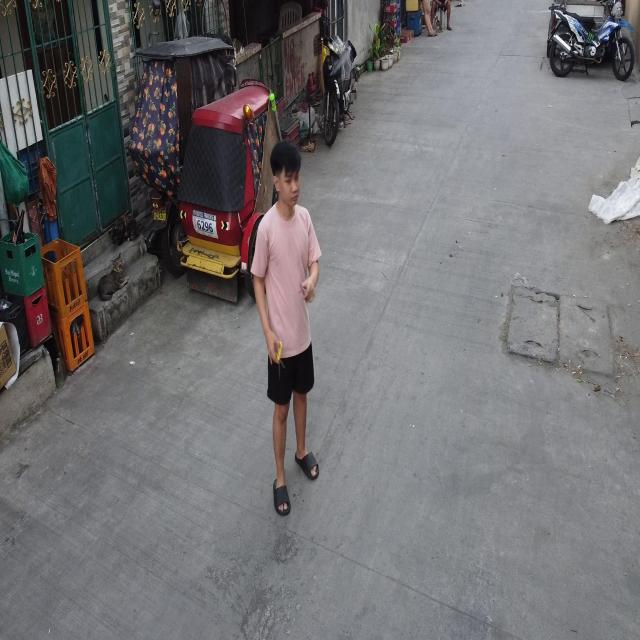scissor: (274, 341, 284, 378)
